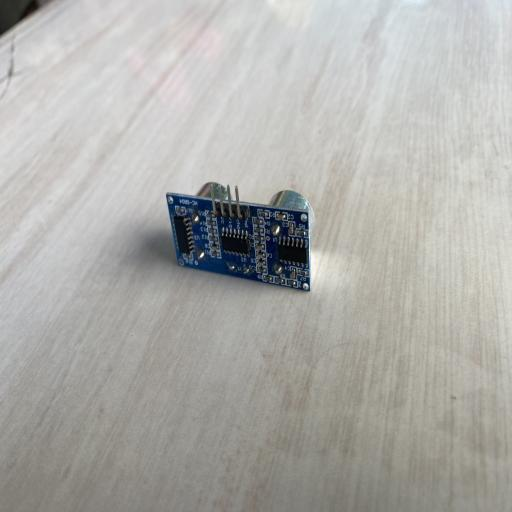Ultrasonic Sensor: (166, 180, 316, 292)
